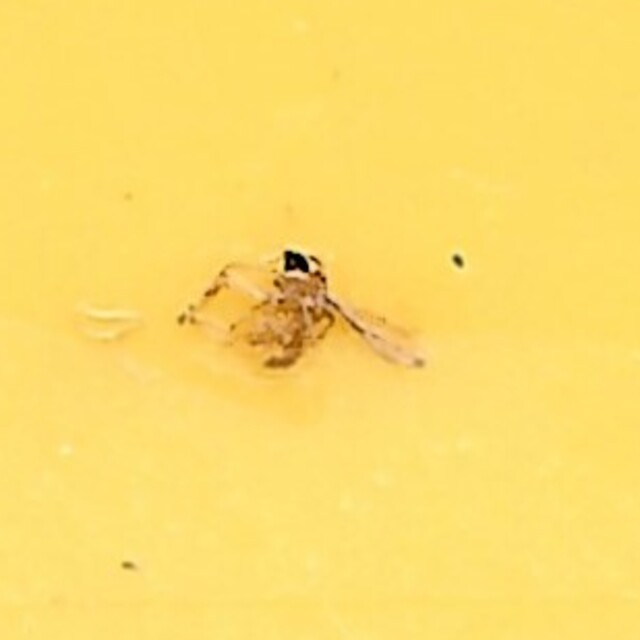Nematocera: (207, 237, 433, 403)
